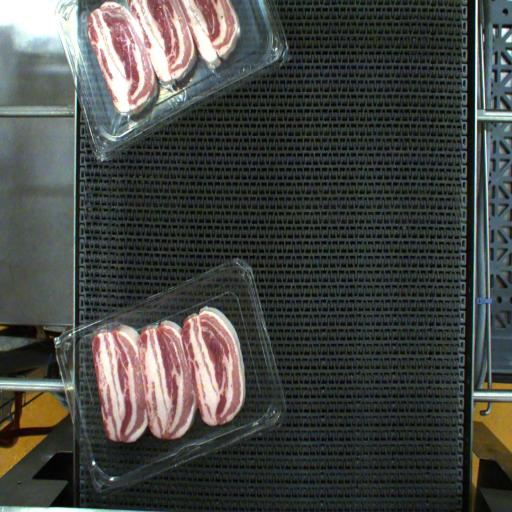packaging-error: (76, 312, 134, 339)
